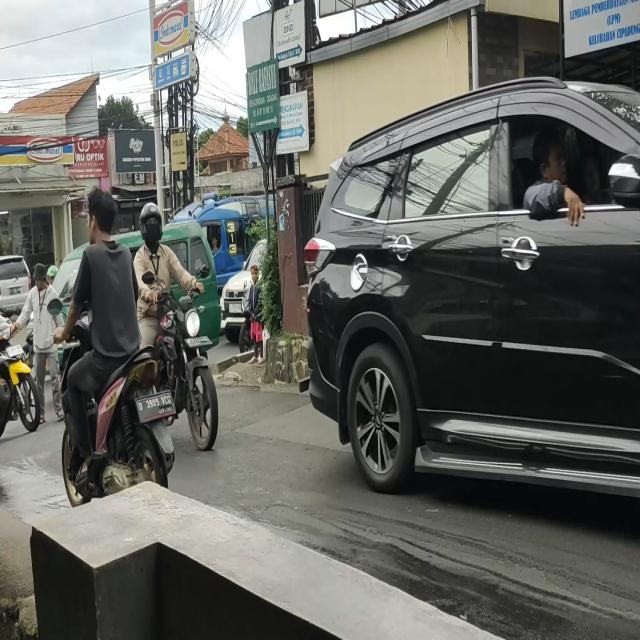helmet: (140, 201, 163, 243)
no-helmet: (84, 186, 115, 245)
